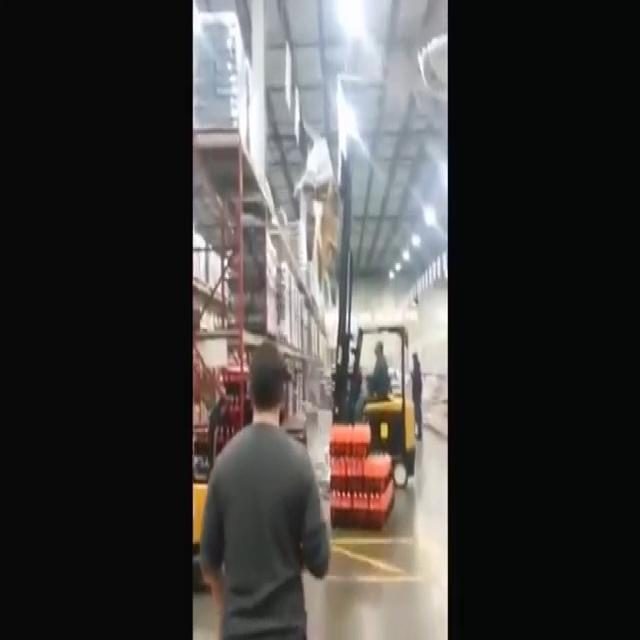forklift: (330, 306, 419, 496)
